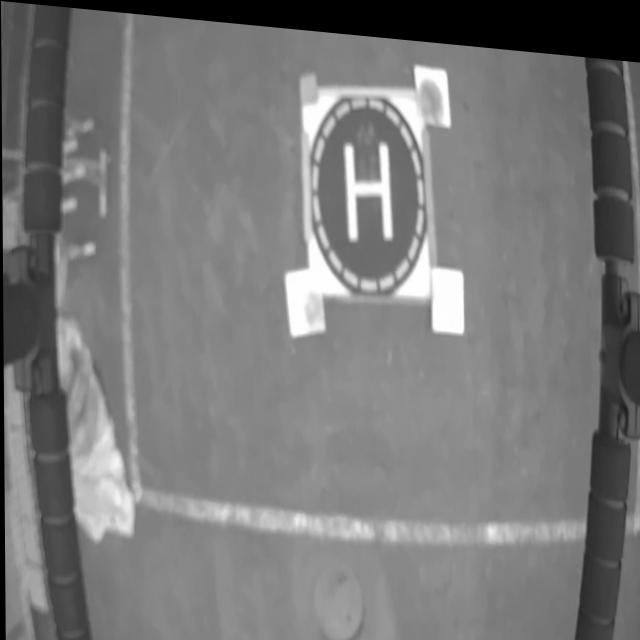Helipad: (343, 133, 392, 234)
